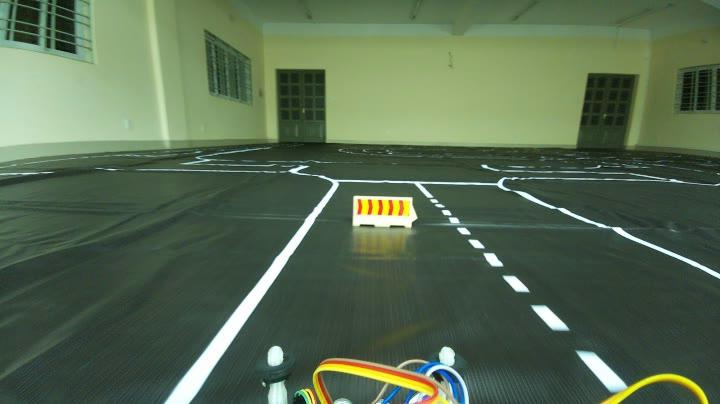roadblock: (350, 192, 420, 234)
